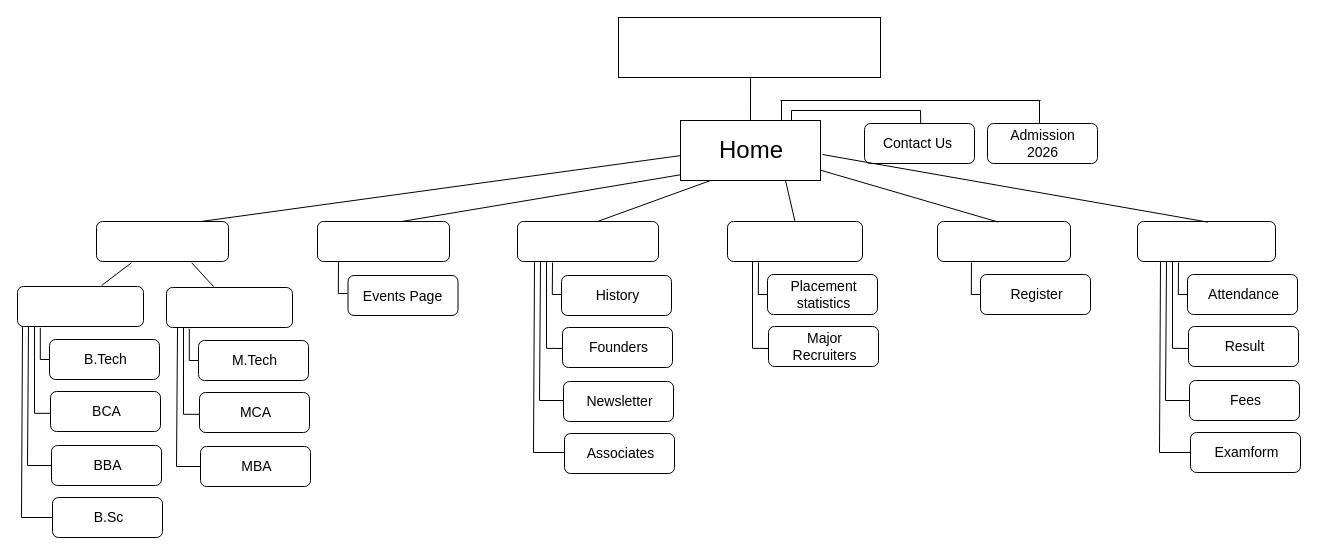
The diagram is 1318 pixels wide and 555 high, and some of its shapes have lost their labels. The shapes that lost their labels are listed below. From the top down, each one's centre as x and y in pixels, then its label:
At [749,47]: "Log in".
At [162,241]: "Courses".
At [383,241]: "Events".
At [587,241]: "About Us".
At [794,241]: "Placements".
At [1003,241]: "Alumni".
At [1206,241]: "You".
At [80,306]: "Undergraduates".
At [229,307]: "Postgraduates".
